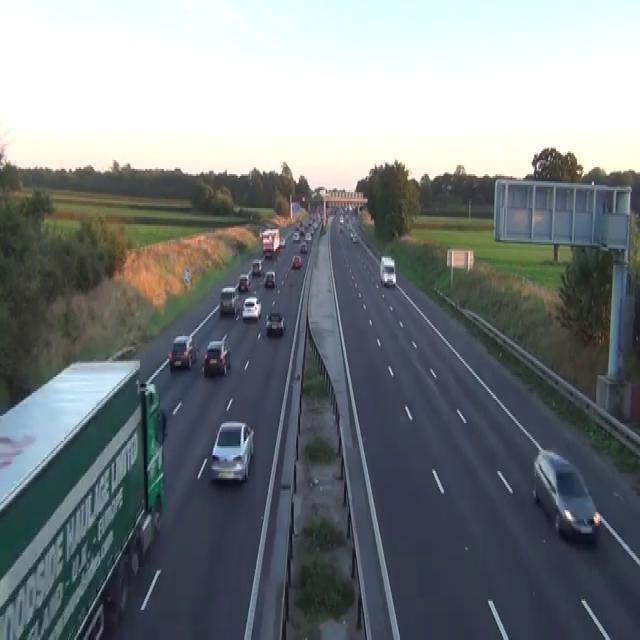Car: (532, 448, 600, 544), (79, 555, 129, 638), (209, 419, 254, 482), (103, 556, 129, 618), (108, 345, 140, 380), (168, 334, 197, 372), (203, 338, 231, 377), (79, 601, 104, 638), (379, 254, 396, 286), (219, 286, 237, 315), (265, 311, 285, 336), (241, 297, 261, 320), (110, 345, 137, 361), (238, 272, 250, 292), (263, 270, 275, 288), (252, 258, 262, 276), (263, 240, 273, 258), (291, 254, 302, 268), (350, 229, 358, 242), (319, 222, 326, 235), (300, 240, 307, 252), (259, 226, 266, 238), (292, 231, 299, 242), (264, 249, 272, 258), (305, 231, 311, 242), (233, 204, 240, 213), (446, 183, 453, 192), (280, 237, 285, 247), (339, 215, 343, 224), (350, 230, 354, 238), (259, 228, 263, 236)
Truck: (0, 356, 165, 638), (261, 228, 280, 258)
